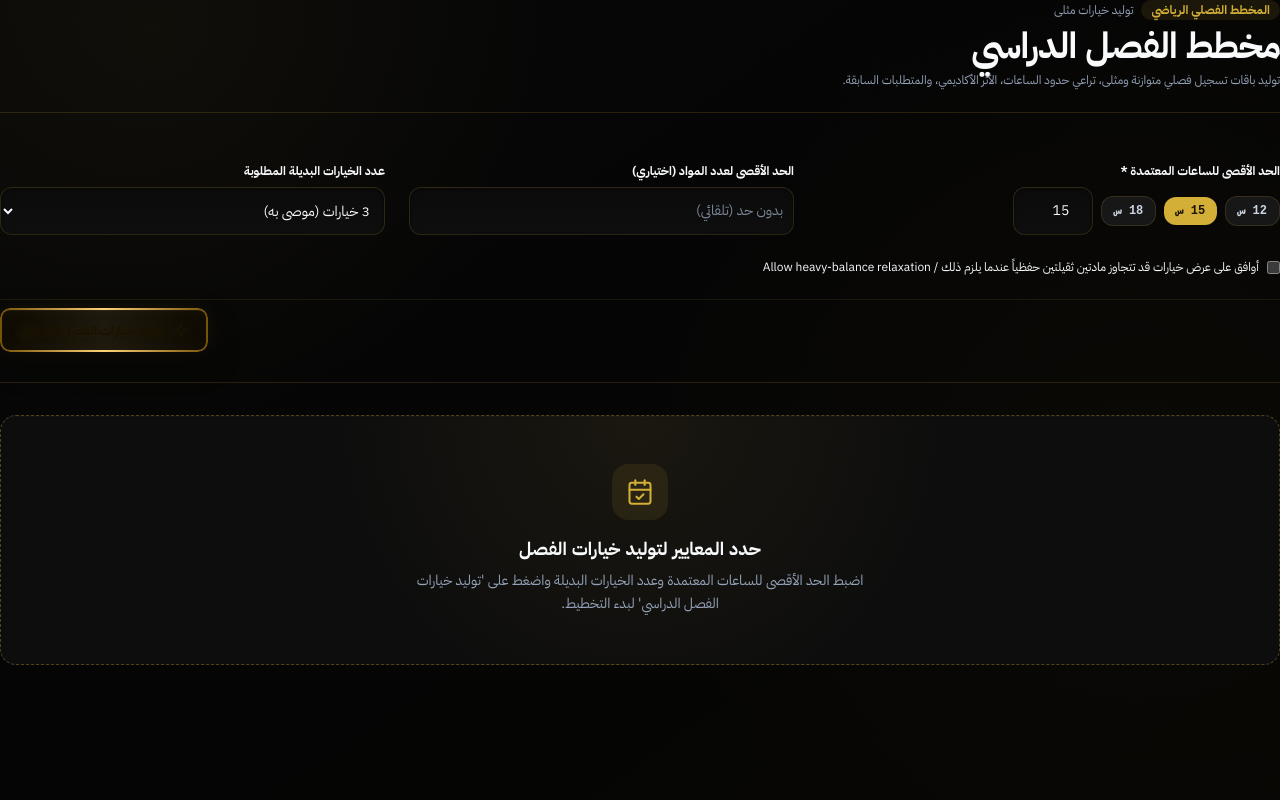
Morshidi Student Portal Pages Suite › renders PlannerPage and generates plan options
Expected: the heading "مخطط الفصل الدراسي" is shown, [971, 25, 1279, 66]
Click the button "توليد خيارات الفصل الدراسي" at (104, 330), box [0, 308, 208, 352]
(page scrolled)
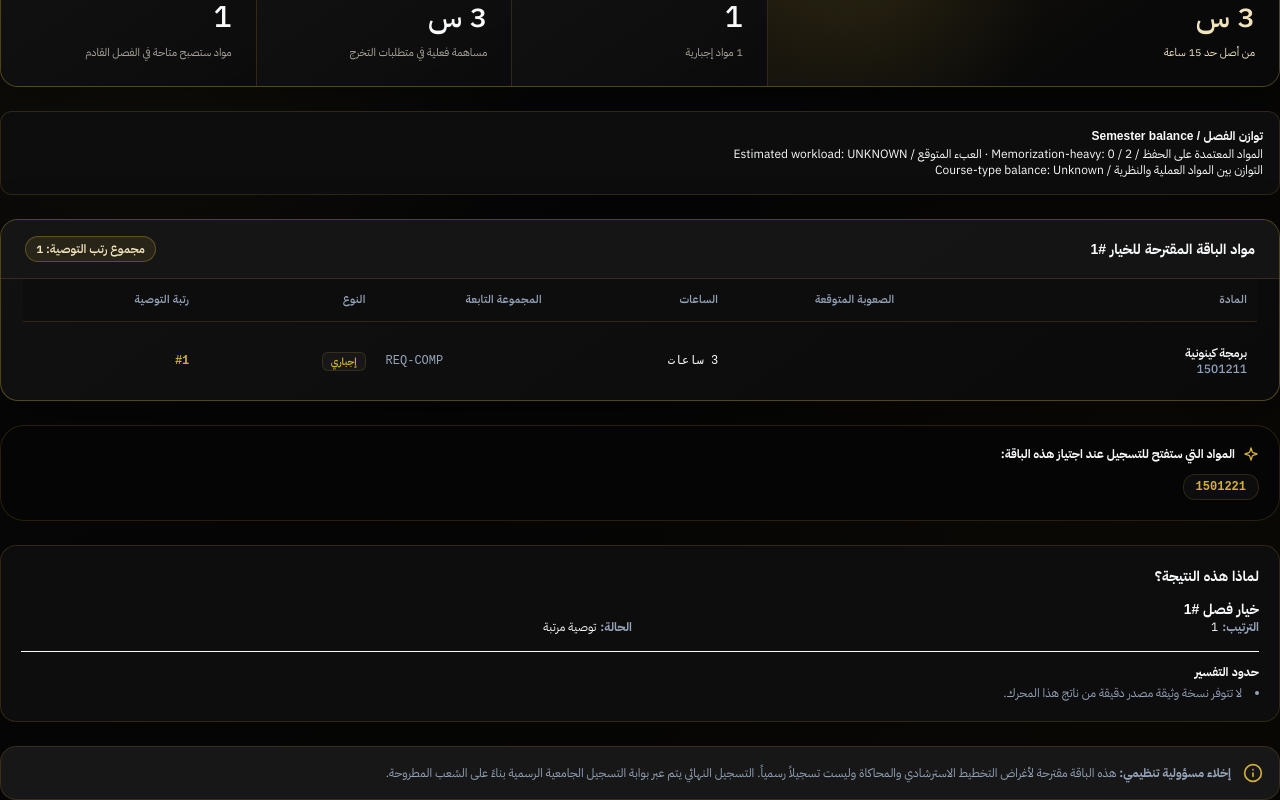
Expected: the text "برمجة كينونية" is shown, [1185, 346, 1247, 362]
Expected: the heading "خيار فصل #1" is shown, [1184, 601, 1259, 617]
